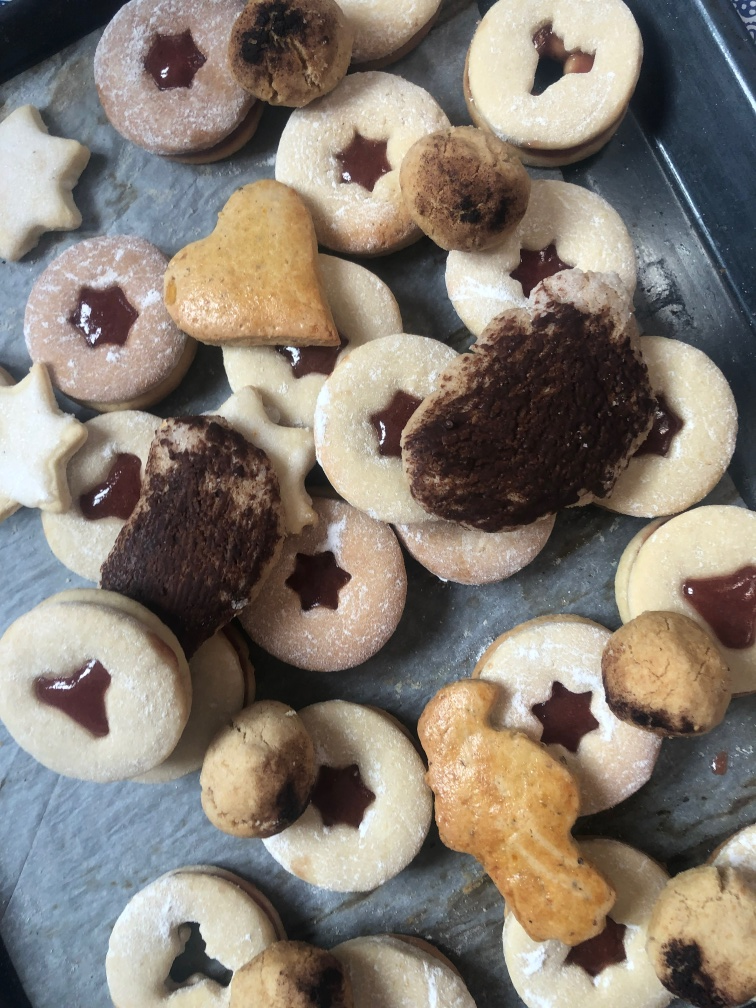christmas shortbread with jam: (1, 584, 180, 779), (480, 615, 654, 798), (278, 71, 432, 252), (229, 259, 399, 421), (503, 842, 667, 1008), (450, 180, 633, 325), (94, 2, 266, 156), (469, 1, 637, 158), (307, 697, 430, 902), (101, 861, 267, 1008), (28, 240, 182, 397), (616, 505, 756, 677), (275, 73, 387, 284), (263, 493, 400, 665), (46, 414, 155, 593), (317, 336, 428, 511), (638, 329, 730, 523)
heart: (162, 180, 337, 348)
santa claus: (417, 681, 608, 943)
snowball: (402, 125, 530, 254), (599, 608, 724, 739), (649, 868, 756, 1008), (222, 1, 353, 109), (203, 709, 313, 831), (229, 938, 336, 1008)
star: (211, 385, 312, 533), (1, 102, 82, 267), (3, 360, 83, 526)
weird #1: (409, 273, 651, 518), (95, 414, 276, 652)
